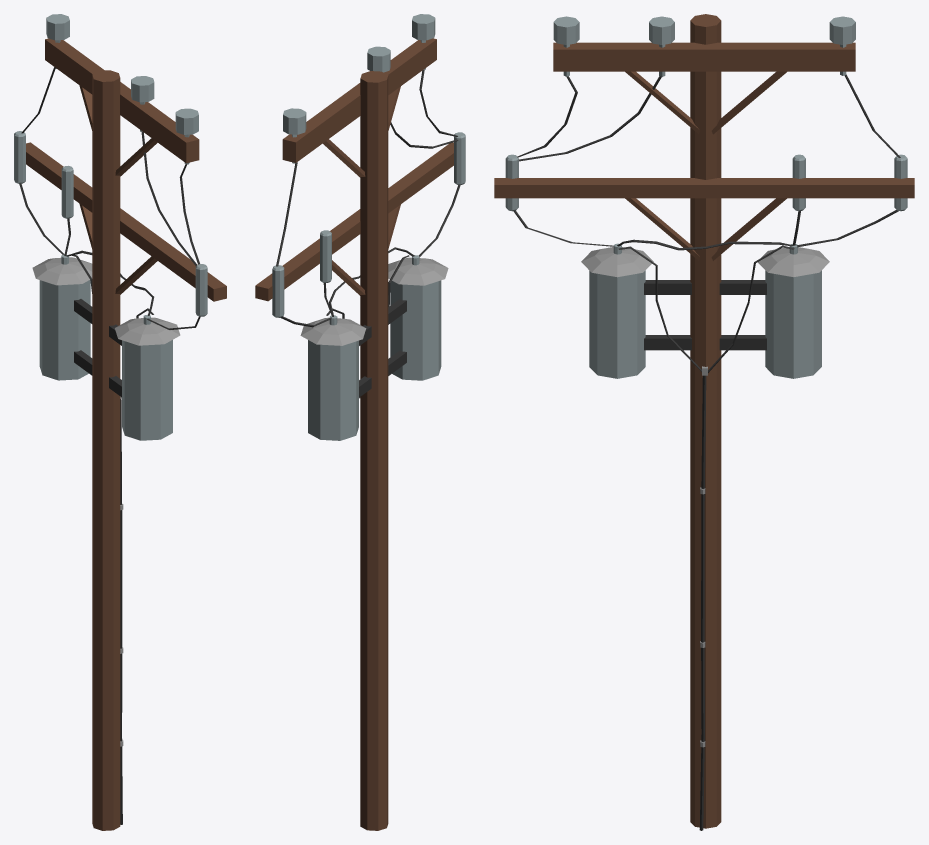
The model's file is Power_poles.fbx.
3 renders of one model, left to right at view 1: azimuth 30°, elevation 25°; view 2: azimuth 150°, elevation 25°; view 3: azimuth 270°, elevation 25°, orthographic. The views are drawn at different scales.
Parts seen in each view (by area): view 1: Power poles; view 2: Power poles; view 3: Power poles.
Part boxes in pixels (x1,y1,x2,y2): Power poles: [14, 14, 226, 830]; Power poles: [255, 14, 465, 830]; Power poles: [494, 14, 914, 830].
Bounding box in the file's own units: 41.21 × 505 × 238.
Materials: 1 (1 with a texture image).
